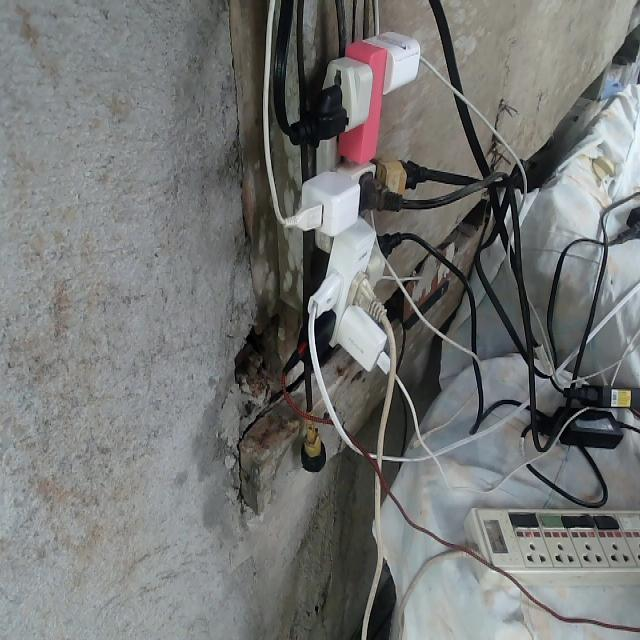-: (277, 28, 435, 396)
